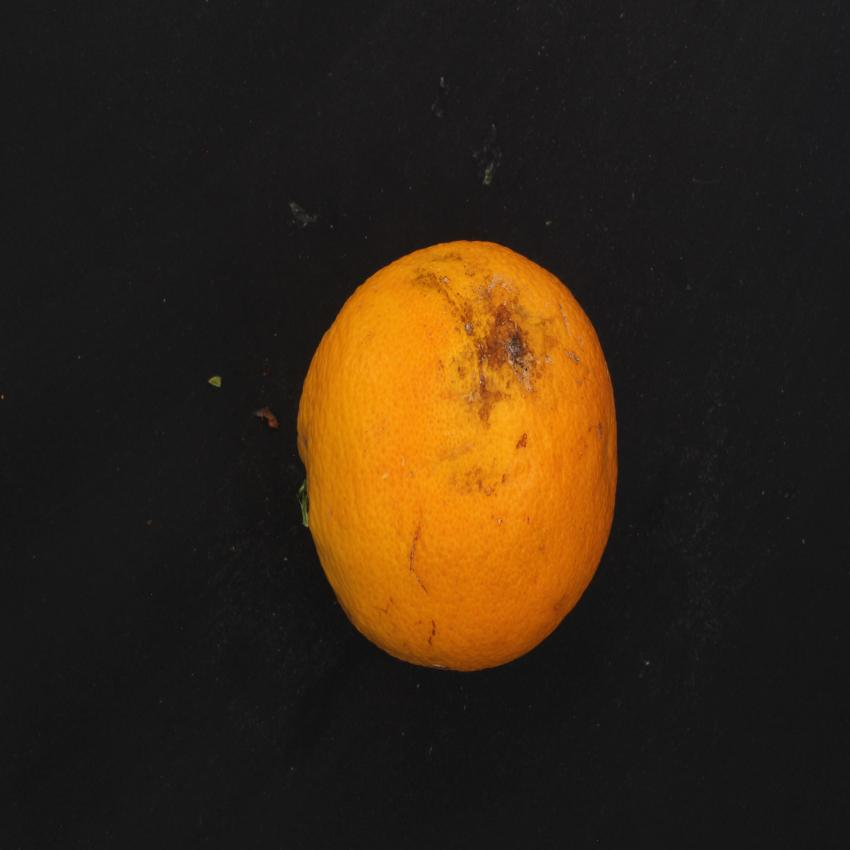Buen estado: (292, 225, 623, 684)
